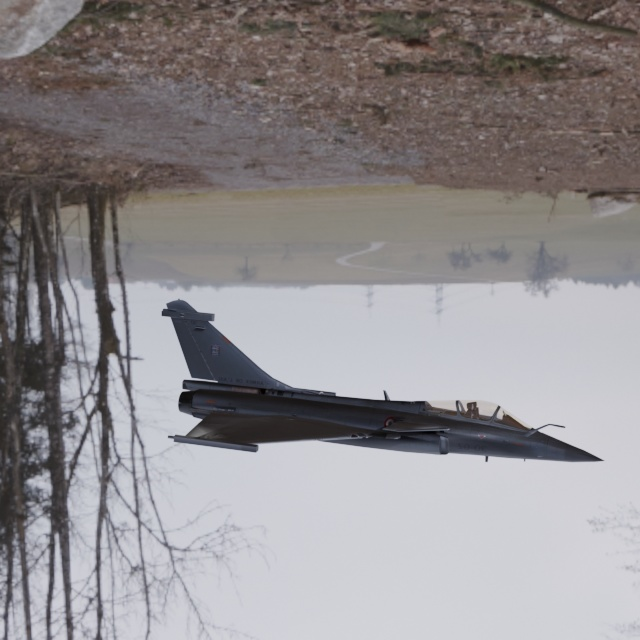dassault_rafale: (97, 287, 619, 513)
